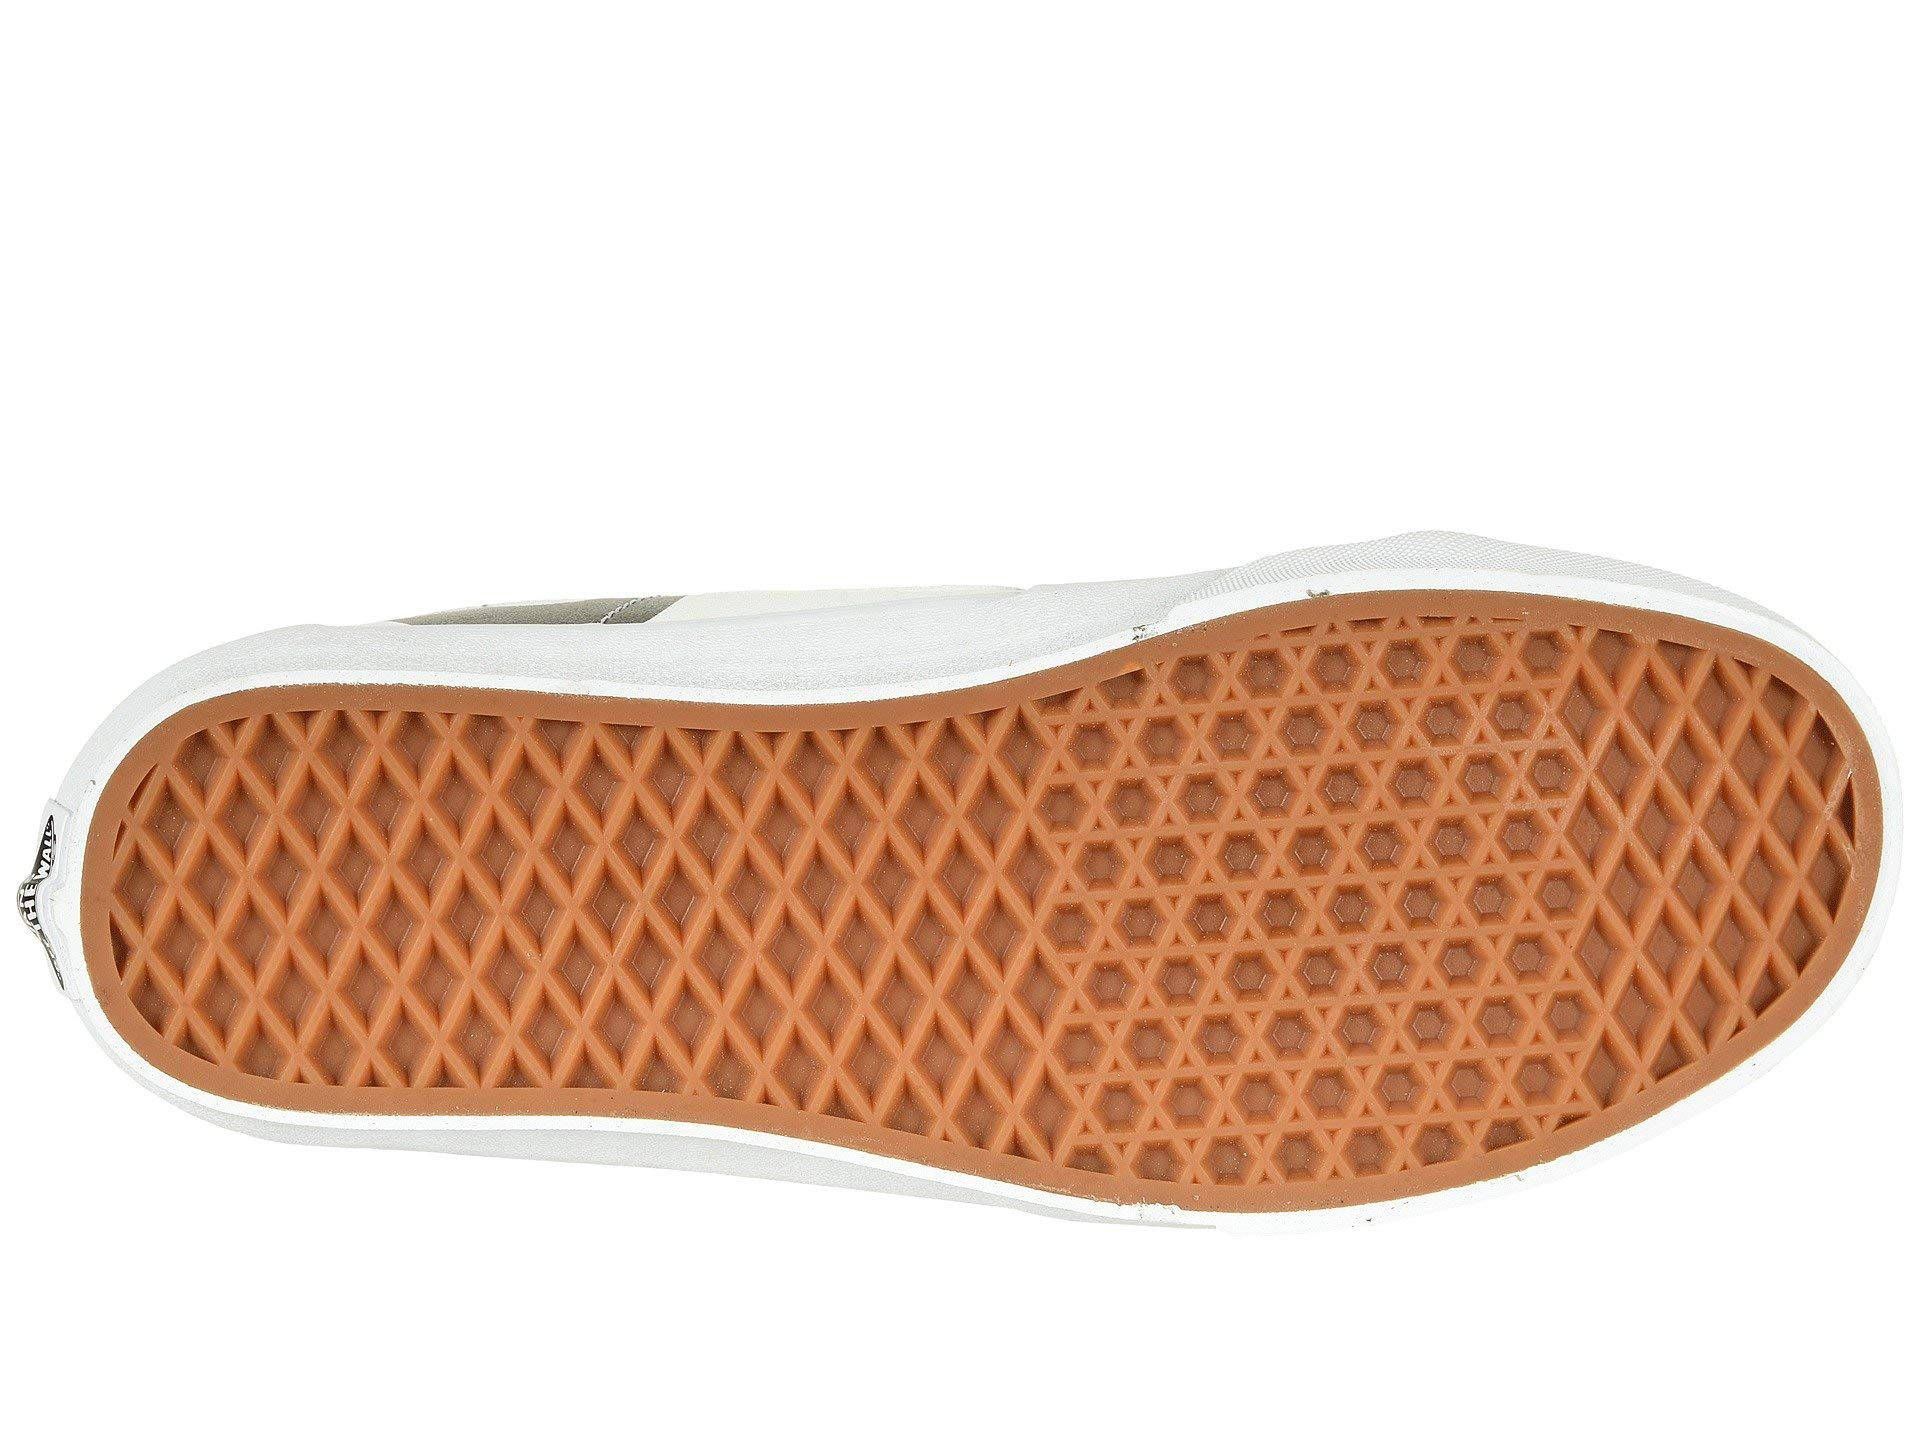polygon: (1089, 709, 1556, 1113)
quad: (172, 731, 1030, 1092)
triangle: (1089, 709, 1556, 1113)
